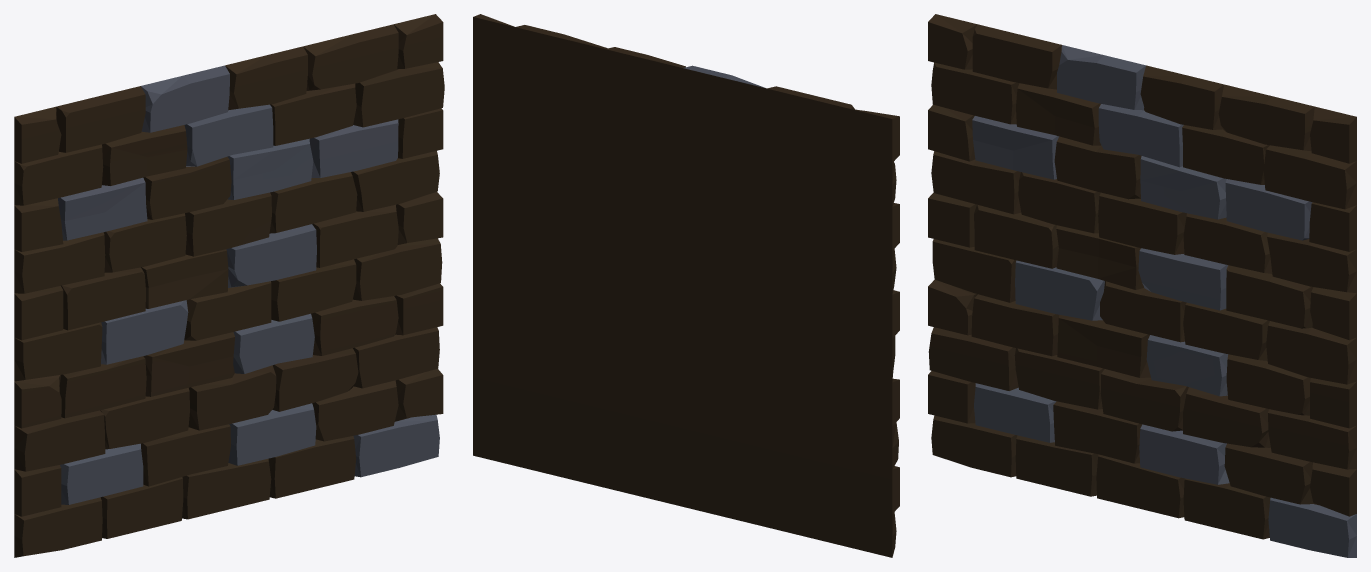
Rendered from Wall_26.fbx.
The picture shows the model from 3 angles, left to right: view 1: azimuth 30°, elevation 25°; view 2: azimuth 150°, elevation 25°; view 3: azimuth 330°, elevation 25°; orthographic projection.
Visible parts, largest first — view 1: Wall_26; view 2: Wall_26; view 3: Wall_26.
Part boxes in pixels (<box>): Wall_26: <box>14,14,444,557</box>; Wall_26: <box>473,14,899,557</box>; Wall_26: <box>928,14,1356,557</box>.
Size of the model in its own units: 4 by 4 by 0.1577.
